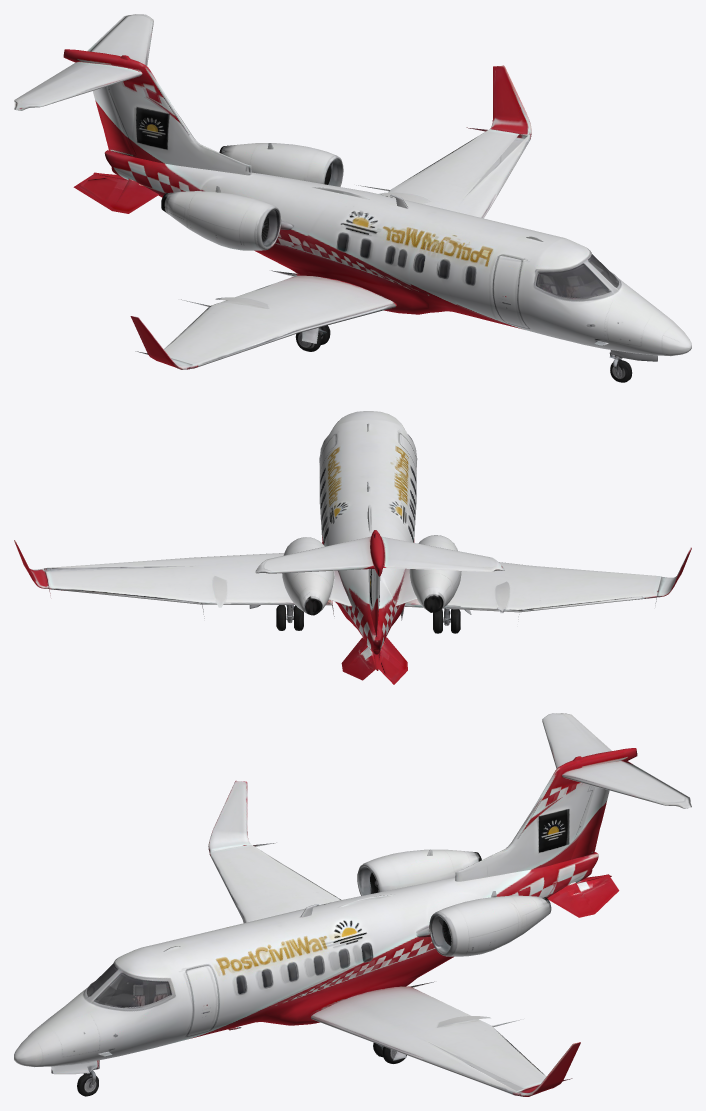
Rendered from vehicle-jet.2048.glb.
3 views of the same model, one above another, from view 1: azimuth 30°, elevation 25°; view 2: azimuth 150°, elevation 25°; view 3: azimuth 270°, elevation 25° (orthographic). The views are drawn at different scales.
Parts seen in each view (by area): view 1: tripo_node_2f1ada5b-23a1-4b34-92e6-acd778fcc2f5; view 2: tripo_node_2f1ada5b-23a1-4b34-92e6-acd778fcc2f5; view 3: tripo_node_2f1ada5b-23a1-4b34-92e6-acd778fcc2f5.
Boxes of the visible parts, box(x1,y1,x2,y2) form: tripo_node_2f1ada5b-23a1-4b34-92e6-acd778fcc2f5: box(14, 14, 691, 382); tripo_node_2f1ada5b-23a1-4b34-92e6-acd778fcc2f5: box(14, 411, 691, 684); tripo_node_2f1ada5b-23a1-4b34-92e6-acd778fcc2f5: box(14, 713, 691, 1096).
Size of the model in its own units: 0.9331 by 0.3472 by 0.9995.
Materials: 1 (1 with a texture image).
